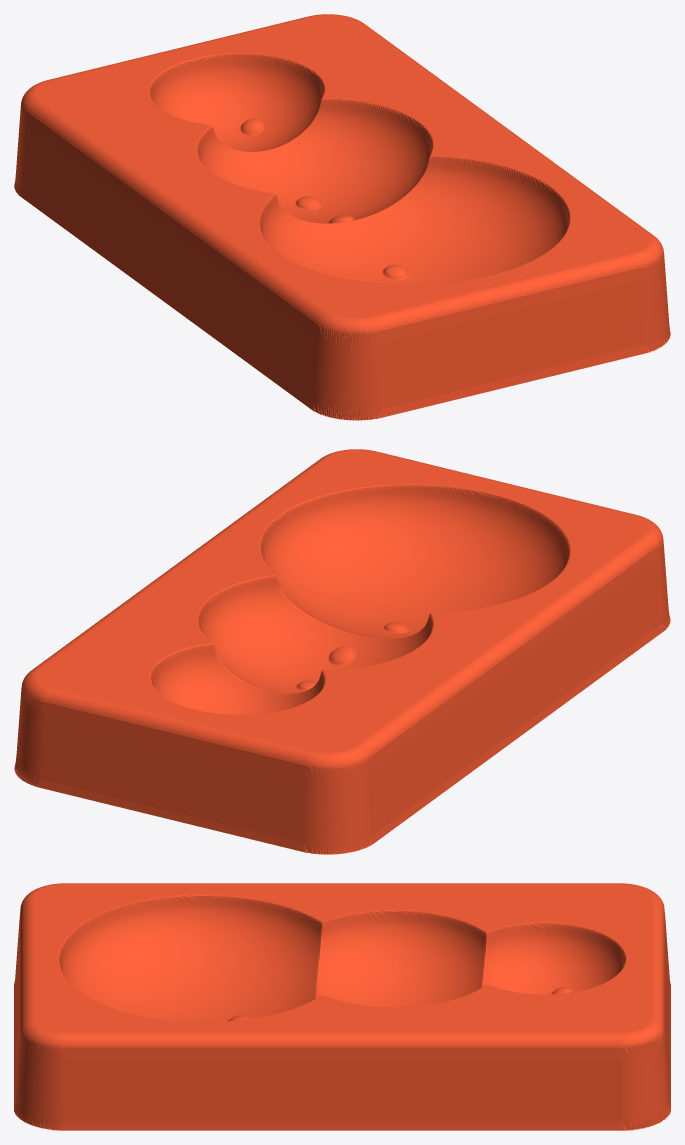
Rendered from mold.glb.
3 views of the same model, one above another, from view 1: azimuth 30°, elevation 25°; view 2: azimuth 150°, elevation 25°; view 3: azimuth 270°, elevation 25° (orthographic). The views are drawn at different scales.
Parts seen in each view (by area): view 1: geometry_0; view 2: geometry_0; view 3: geometry_0.
Part boxes in pixels (x1=…): geometry_0: x1=14, y1=14, x2=670, y2=420; geometry_0: x1=14, y1=449, x2=670, y2=854; geometry_0: x1=14, y1=883, x2=670, y2=1130.
Bounding box in the file's own units: 0.0692 × 0.0175 × 0.1164.
